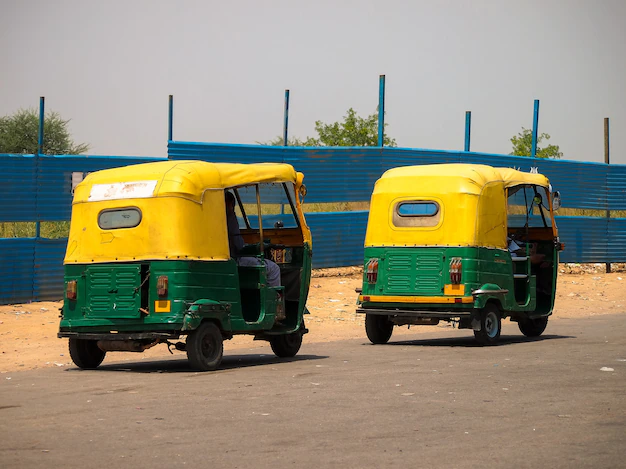auto: (57, 158, 324, 370), (349, 154, 573, 352)
